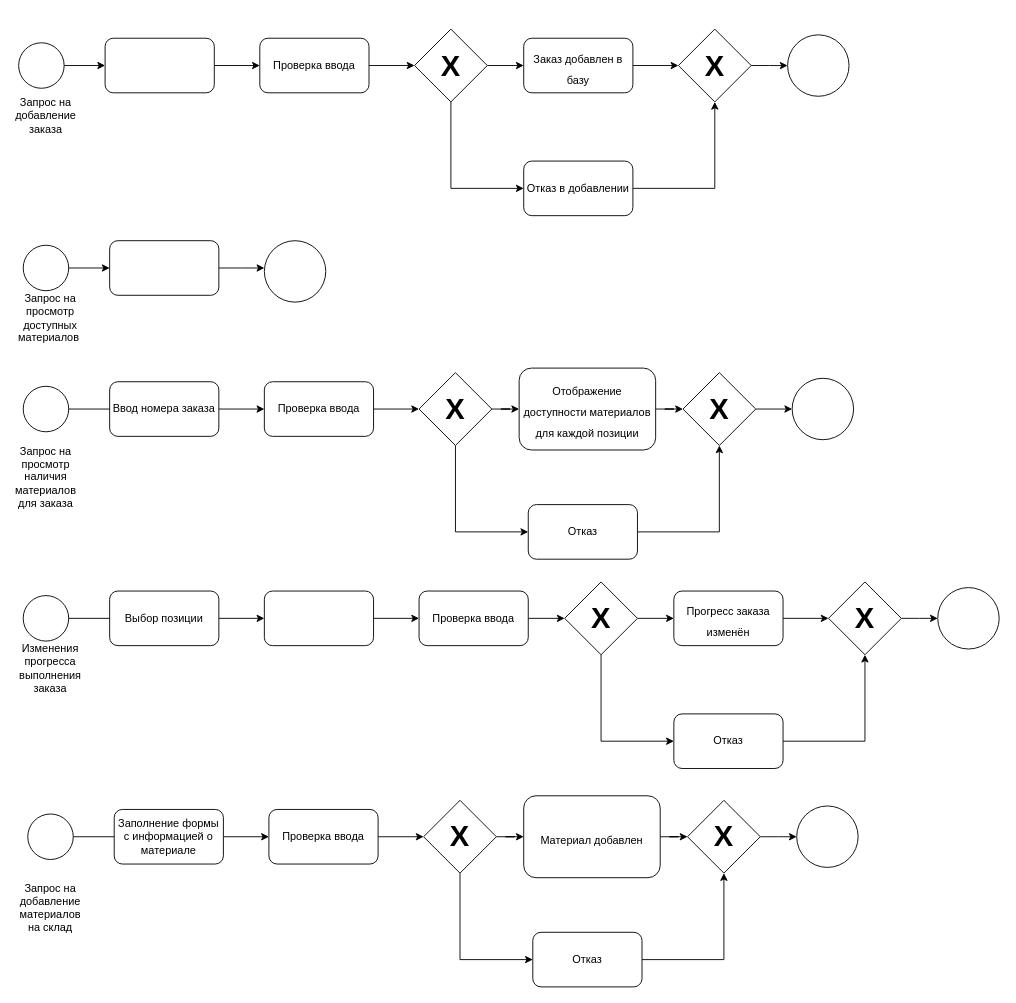
Image size: 1016x1003. Some labels were removed from this diagram. The centre of each missing label's shape, as x and y in pixels:
Ввод числа выполненых позиций: point 318,618
Вывод всего содержимого склада: point 164,267
Заполнение формы: point 159,65
